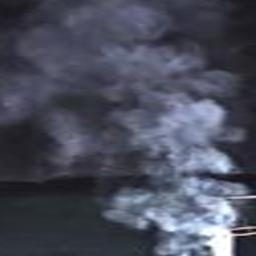smoke: (0, 0, 248, 255)
